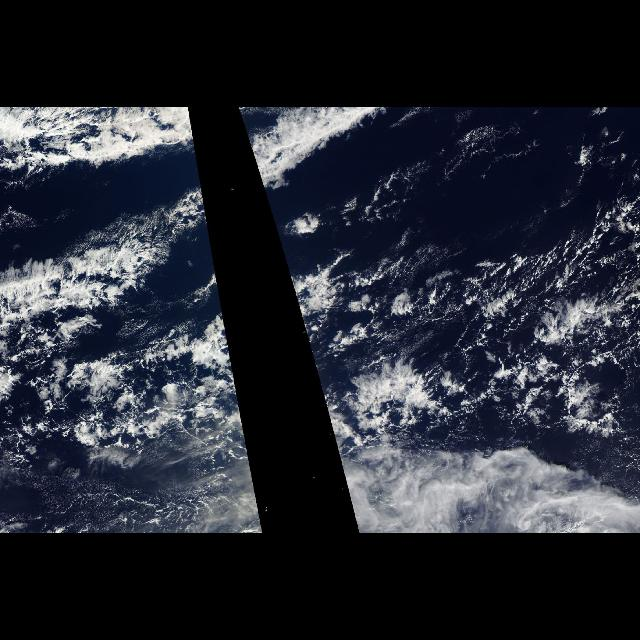Fish: (0, 110, 248, 454), (240, 110, 396, 454)
Gravel: (420, 250, 640, 438)
